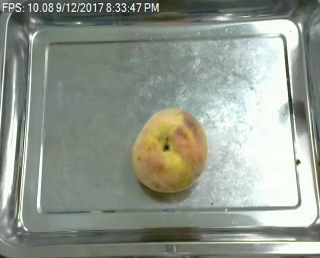Peach: (130, 107, 208, 192)
